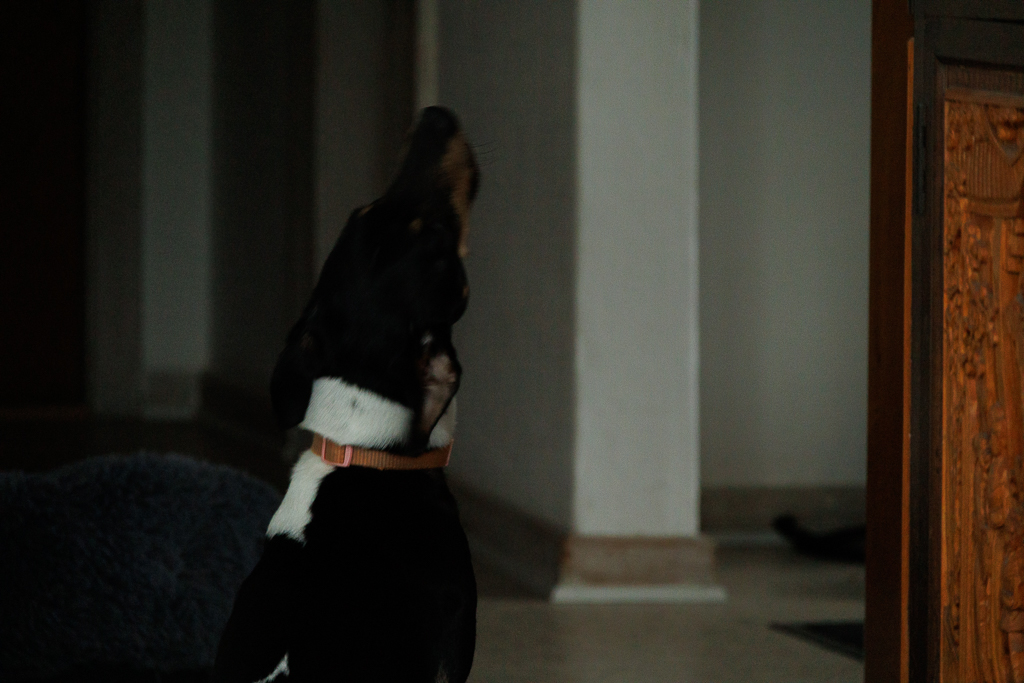Dog: (181, 89, 517, 683)
